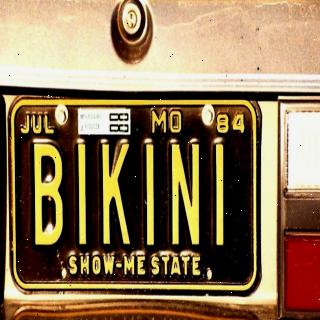license: (9, 95, 271, 308)
